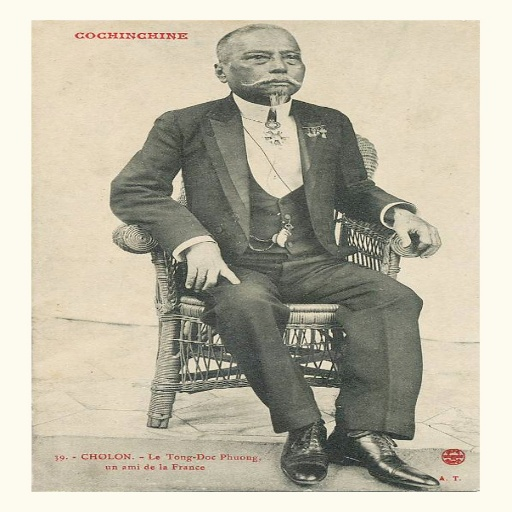hand: (176, 234, 230, 288), (389, 209, 441, 257)
